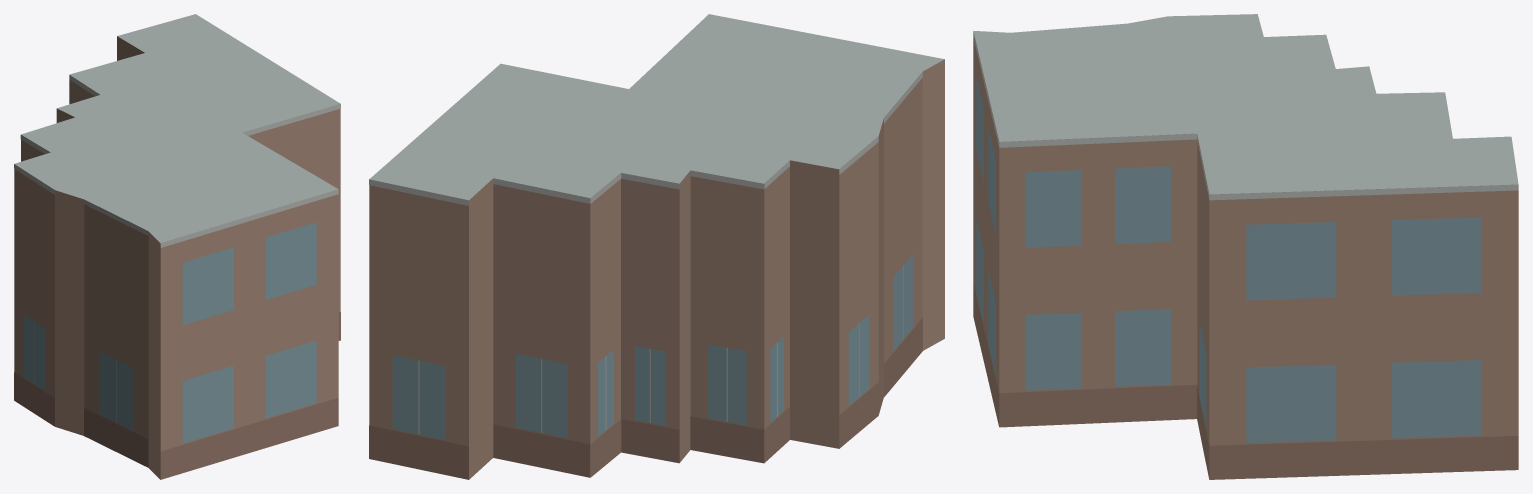
File: survey-upis-32472365.glb
3 renders of one model, left to right at view 1: azimuth 30°, elevation 25°; view 2: azimuth 150°, elevation 25°; view 3: azimuth 270°, elevation 25°, orthographic. The views are drawn at different scales.
Visible parts, largest first — view 1: survey-upis-32472365.tmp; view 2: survey-upis-32472365.tmp; view 3: survey-upis-32472365.tmp.
Boxes of the visible parts, x1,y1,x2,y2 form: survey-upis-32472365.tmp: [14, 14, 340, 479]; survey-upis-32472365.tmp: [369, 14, 944, 479]; survey-upis-32472365.tmp: [973, 14, 1518, 479].
Bounding box in the file's own units: 16.08 × 11.85 × 20.53.
